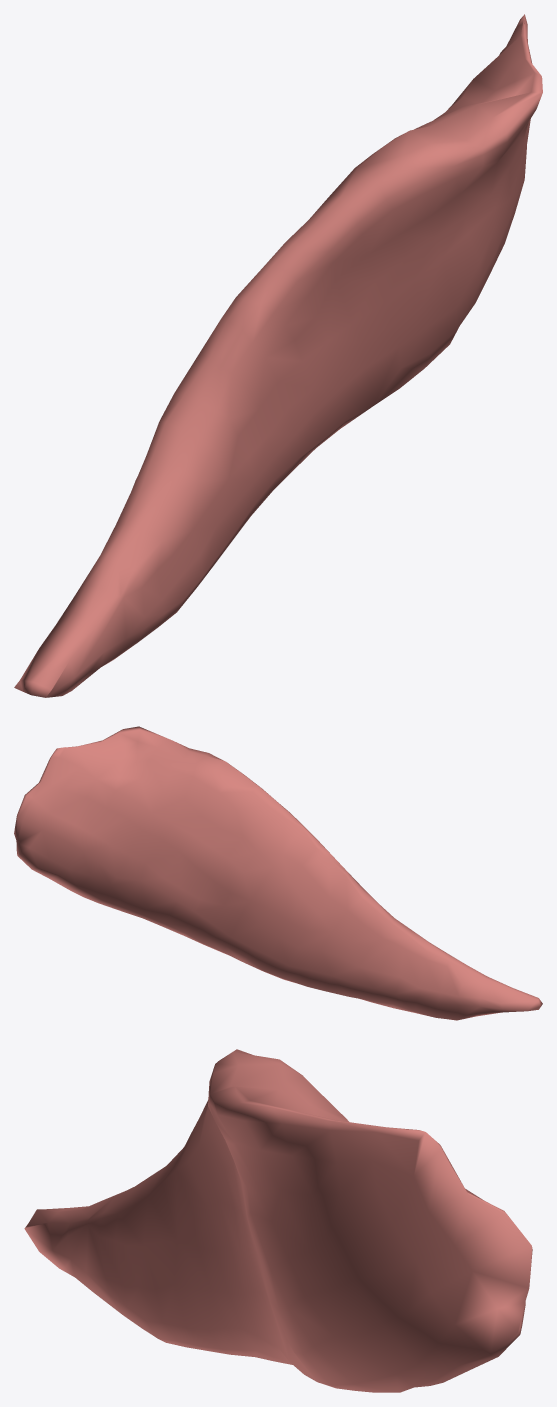
3 views of the same model, one above another, from view 1: azimuth 30°, elevation 25°; view 2: azimuth 150°, elevation 25°; view 3: azimuth 270°, elevation 25° (orthographic). The views are drawn at different scales.
Parts seen in each view (by area): view 1: ZA_82f46ad8e17e69bb; view 2: ZA_82f46ad8e17e69bb; view 3: ZA_82f46ad8e17e69bb.
Boxes of the visible parts, bbox=[...] form: ZA_82f46ad8e17e69bb: bbox=[14, 14, 542, 697]; ZA_82f46ad8e17e69bb: bbox=[14, 726, 542, 1020]; ZA_82f46ad8e17e69bb: bbox=[24, 1049, 532, 1392].
Size of the model in its own units: 0.1107 by 0.064 by 0.0598.
